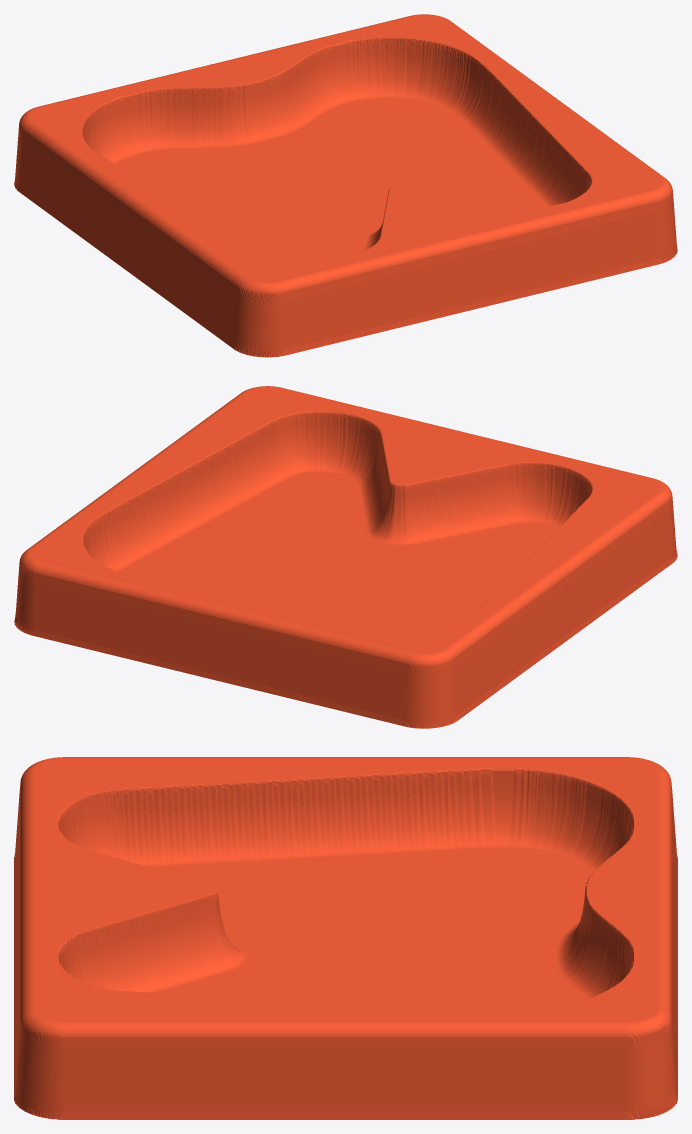
The model's file is mold.glb.
3 views of the same model, one above another, from view 1: azimuth 30°, elevation 25°; view 2: azimuth 150°, elevation 25°; view 3: azimuth 270°, elevation 25° (orthographic). The views are drawn at different scales.
Visible parts, largest first — view 1: geometry_0; view 2: geometry_0; view 3: geometry_0.
Part boxes in pixels (bbox=[...]): geometry_0: bbox=[14, 14, 677, 357]; geometry_0: bbox=[14, 386, 677, 728]; geometry_0: bbox=[14, 757, 677, 1119].
Bounding box in the file's own units: 0.1178 × 0.0175 × 0.1178.
